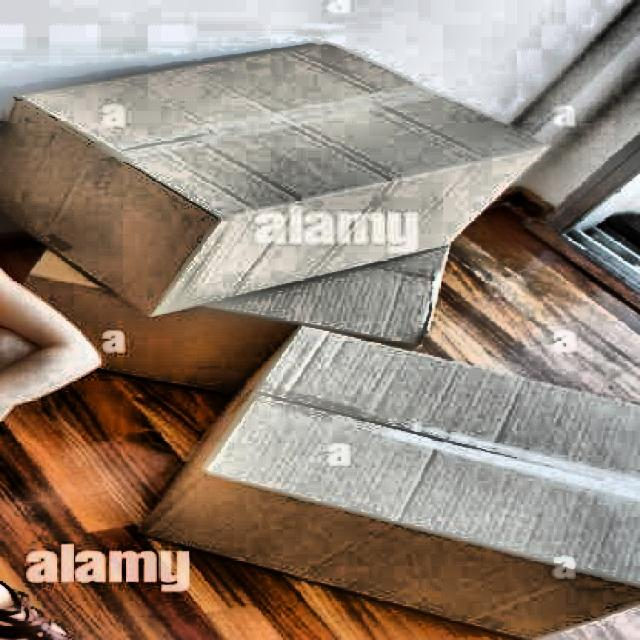Cardbox: (0, 22, 580, 326), (136, 312, 640, 634)
